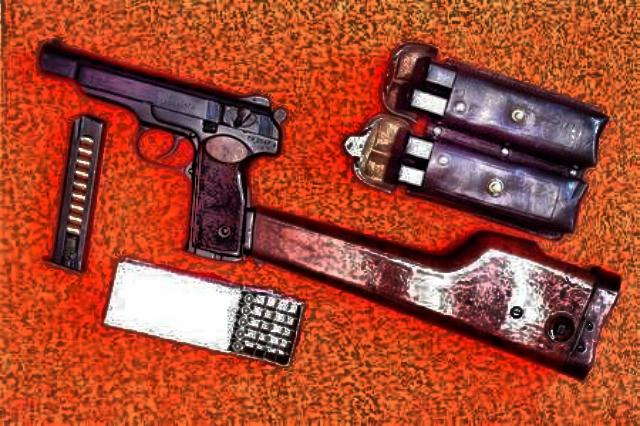pistol: (37, 34, 281, 262)
